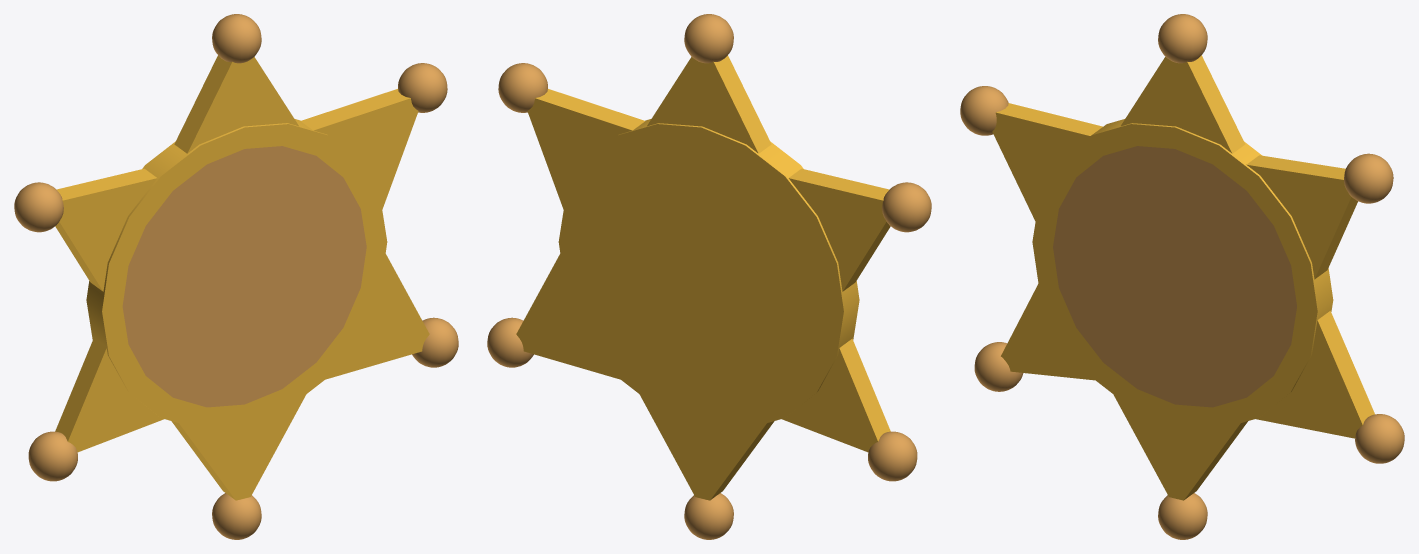
File: SherrifBadge.fbx
3 renders of one model, left to right at view 1: azimuth 30°, elevation 25°; view 2: azimuth 150°, elevation 25°; view 3: azimuth 330°, elevation 25°, orthographic.
Parts seen in each view (by area): view 1: SherrifBadge; view 2: SherrifBadge; view 3: SherrifBadge.
Boxes of the visible parts, x1,y1,x2,y2 form: SherrifBadge: [14, 14, 458, 539]; SherrifBadge: [487, 14, 931, 539]; SherrifBadge: [960, 14, 1404, 539].
Bounding box in the file's own units: 0.0648 × 0.0737 × 0.0064.
Materials: 1 (1 with a texture image).
